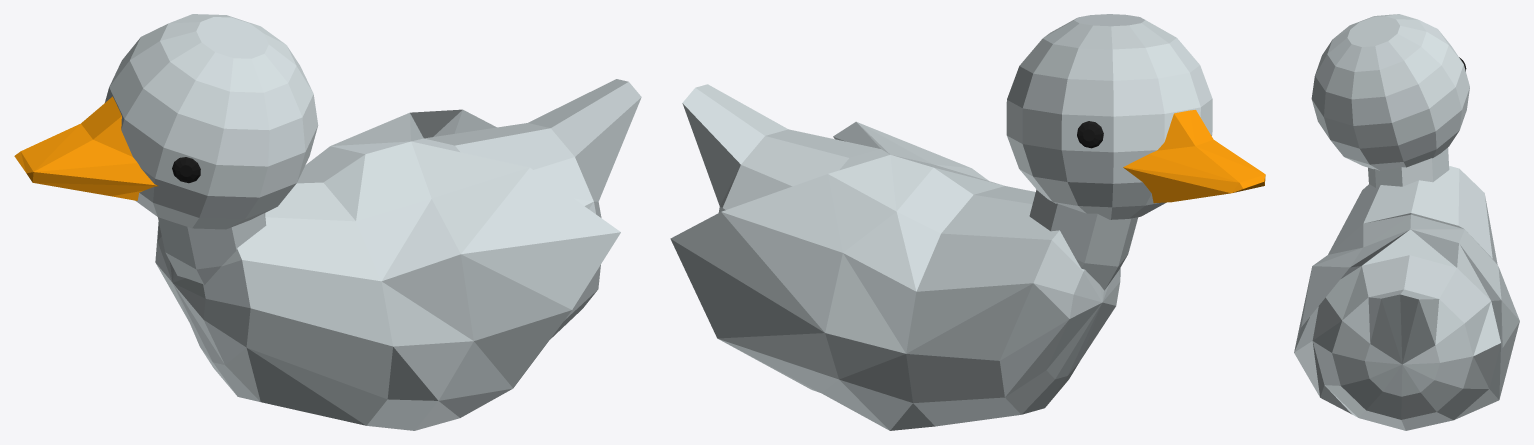
Rendered from duck.glb.
3 renders of one model, left to right at view 1: azimuth 30°, elevation 25°; view 2: azimuth 150°, elevation 25°; view 3: azimuth 270°, elevation 25°, orthographic. The views are drawn at different scales.
Visible parts, largest first — view 1: group537315046, group1071138818, group1332955501, group303299309, group949795807; view 2: group537315046, group1071138818, group1332955501, group303299309, group1487115302; view 3: group537315046, group1071138818, group303299309.
Boxes of the visible parts, x1=… form: group537315046: x1=155, y1=79, x2=641, y2=430; group1071138818: x1=105, y1=14, x2=318, y2=229; group1332955501: x1=14, y1=96, x2=158, y2=200; group303299309: x1=158, y1=213, x2=266, y2=284; group949795807: x1=172, y1=157, x2=200, y2=183; group537315046: x1=670, y1=84, x2=1120, y2=430; group1071138818: x1=1006, y1=14, x2=1212, y2=219; group1332955501: x1=1123, y1=110, x2=1265, y2=203; group303299309: x1=1029, y1=189, x2=1138, y2=290; group1487115302: x1=1077, y1=121, x2=1103, y2=148; group537315046: x1=1294, y1=166, x2=1519, y2=430; group1071138818: x1=1311, y1=14, x2=1469, y2=170; group303299309: x1=1368, y1=148, x2=1449, y2=187.
Bounding box in the file's own units: 0.7289 × 0.5255 × 0.3269.
